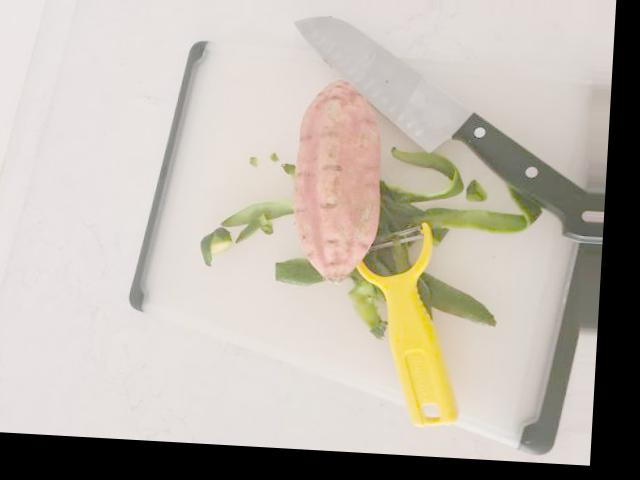sweet_potato: (288, 81, 387, 289)
